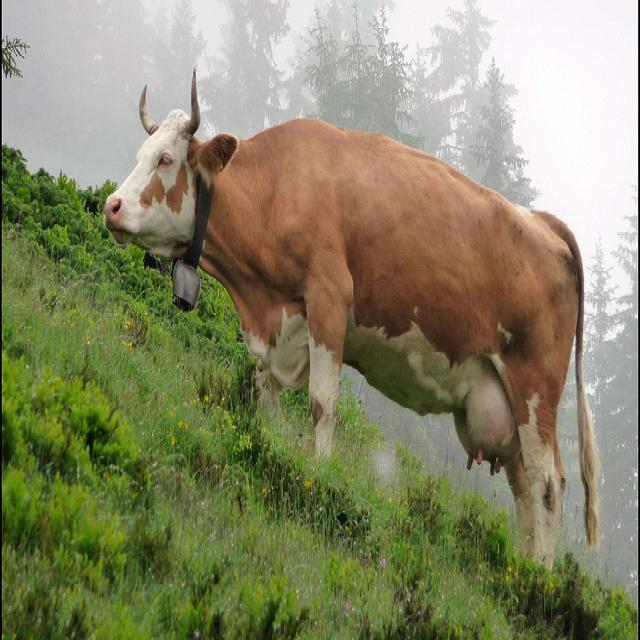cow: (105, 65, 595, 578)
